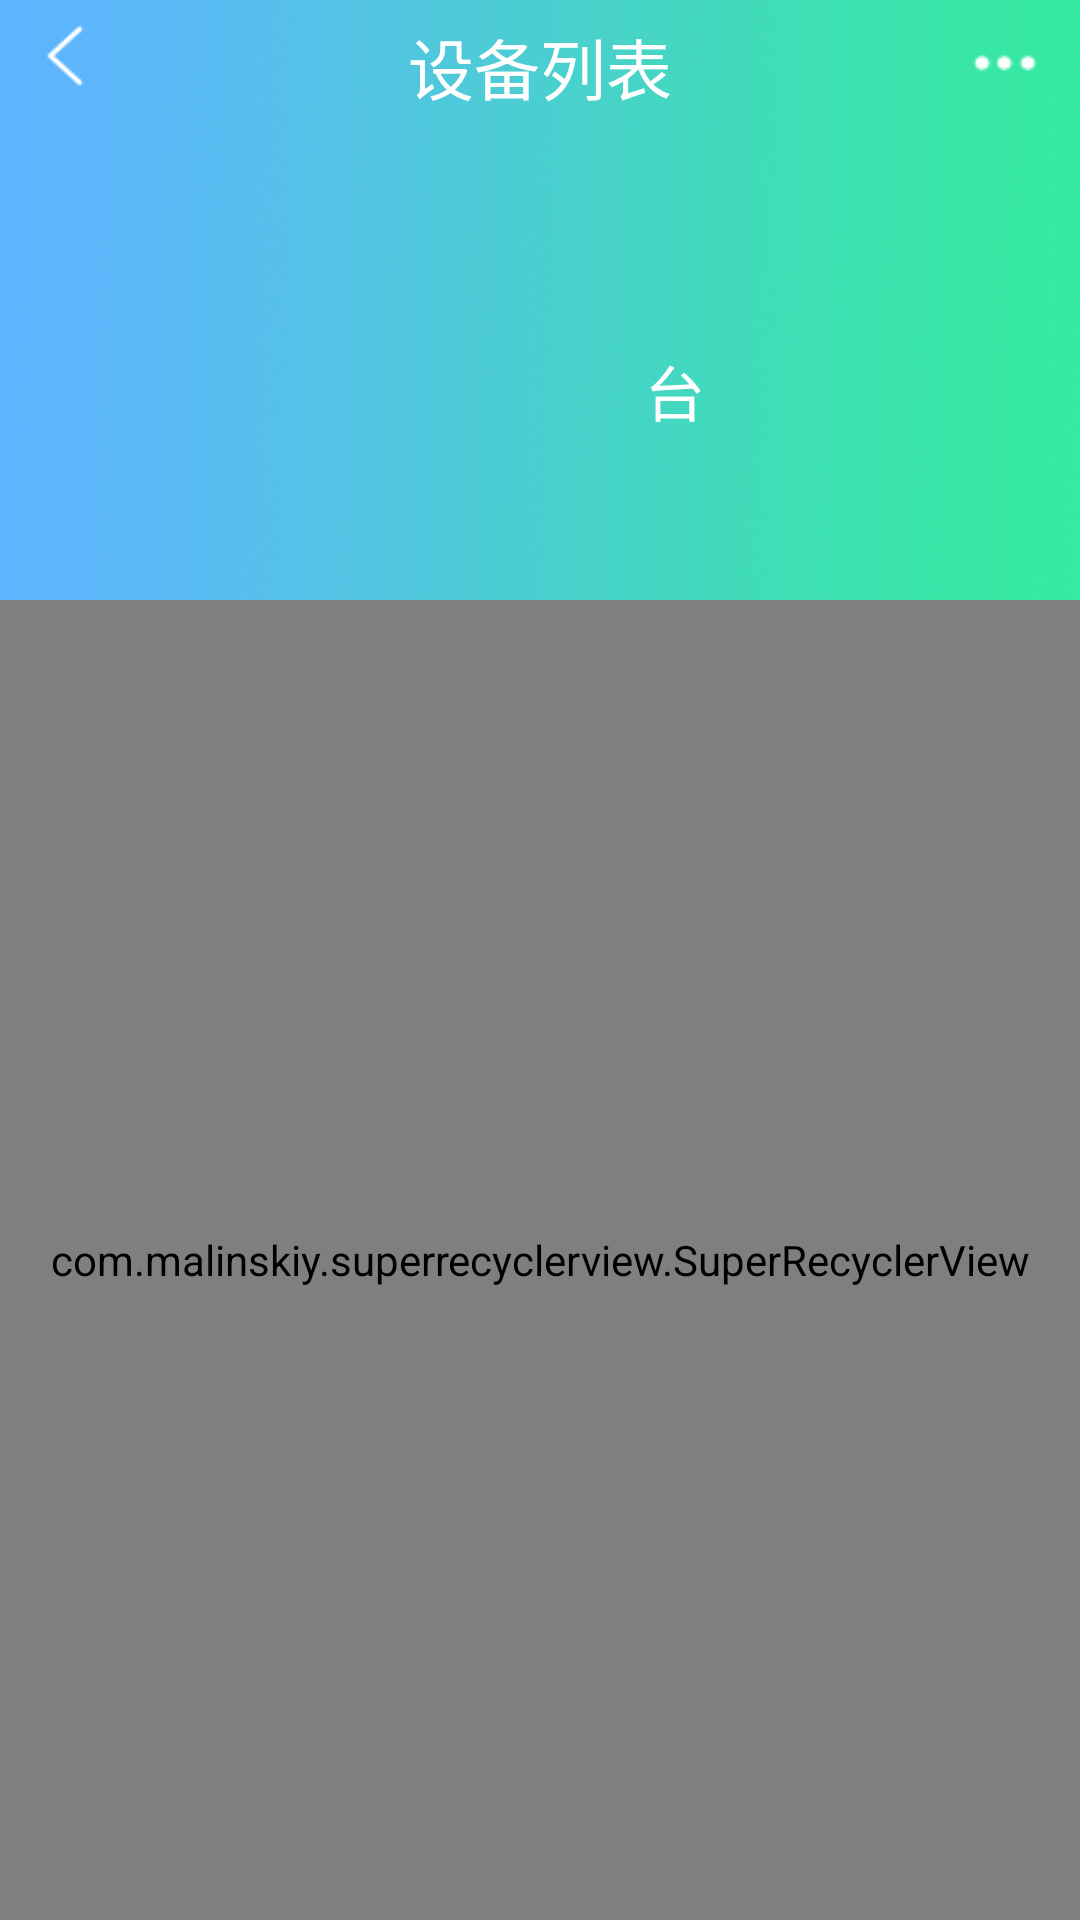

Screen size 1080 x 1920. Icon name, then its box in pixels as [x1, y1, x2, y2]:
back: [47, 26, 83, 86]
more: [974, 55, 1036, 71]
